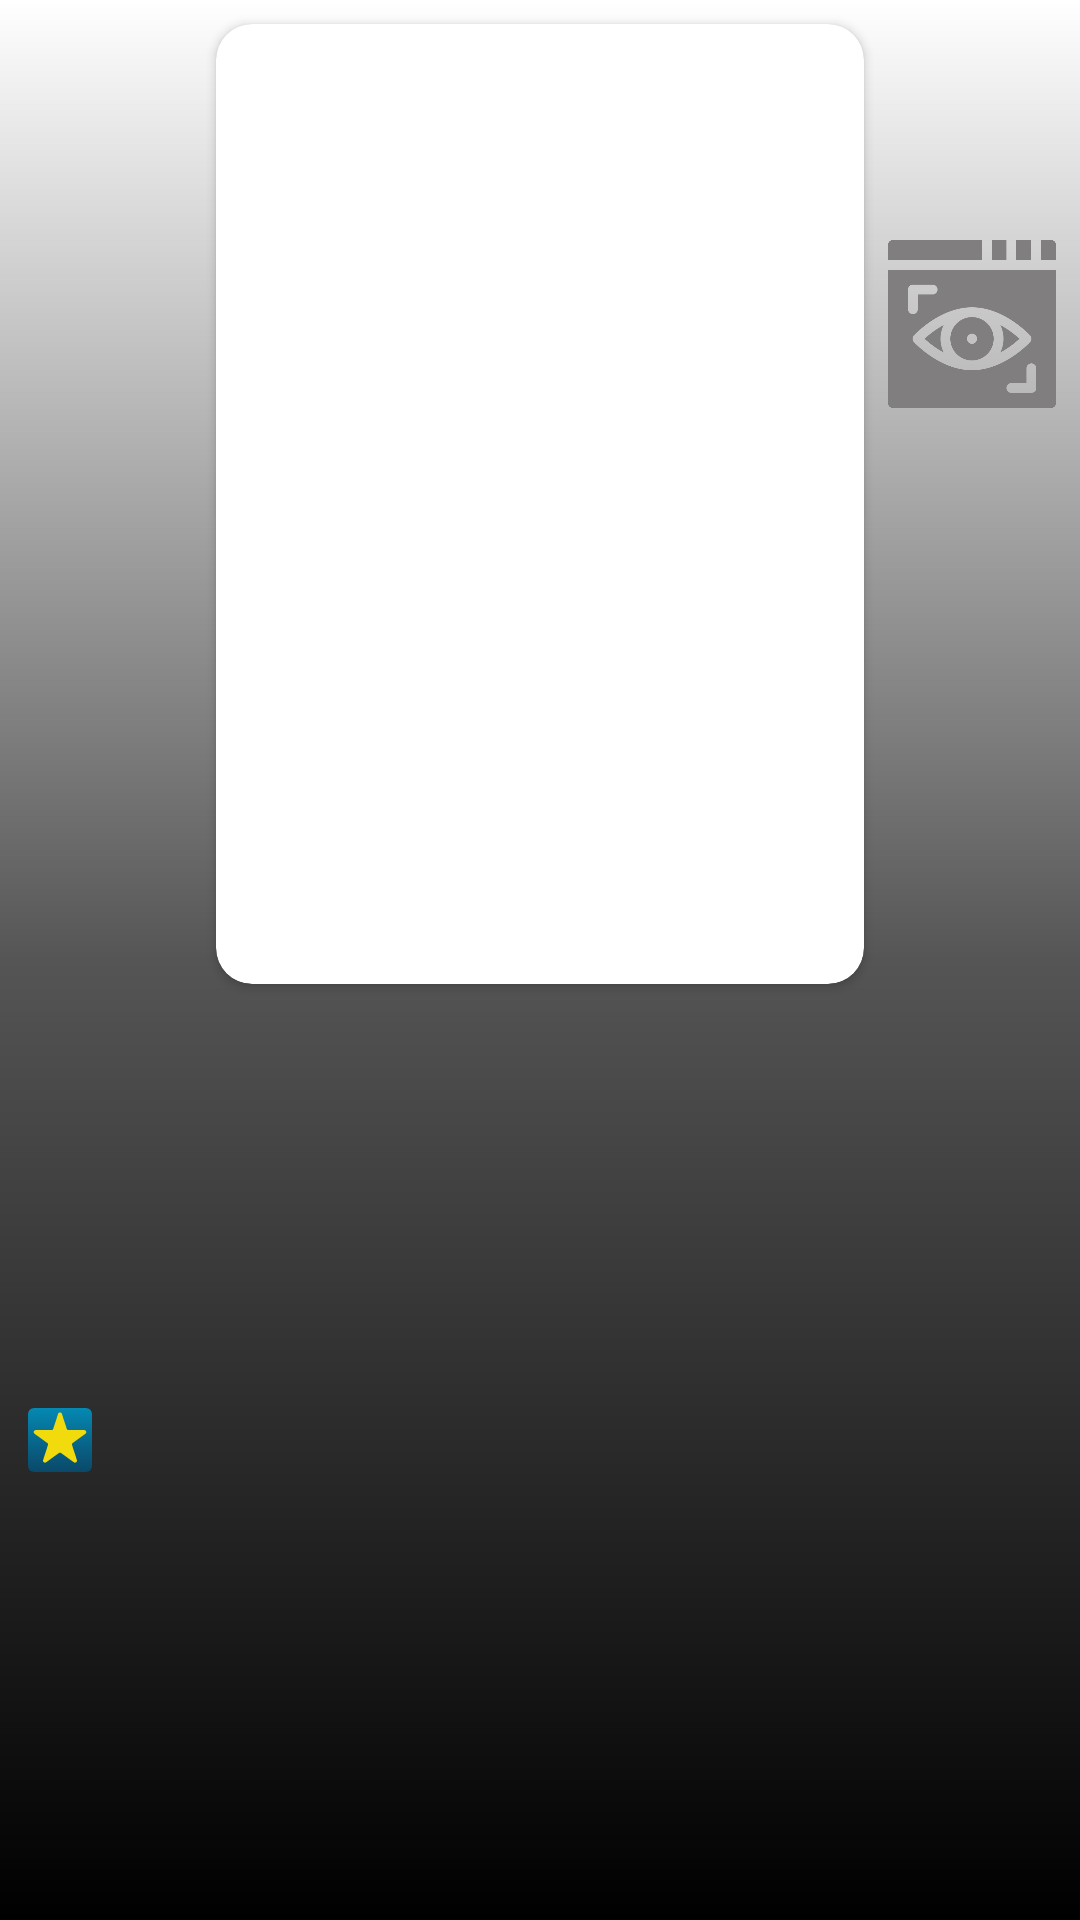

Named icons in this screenshot (1080*1920) and their bounding boxes, (x1=x1, y1=y1, x2=x2, y2=y2):
star rating: (x1=28, y1=1408, x2=92, y2=1472)
